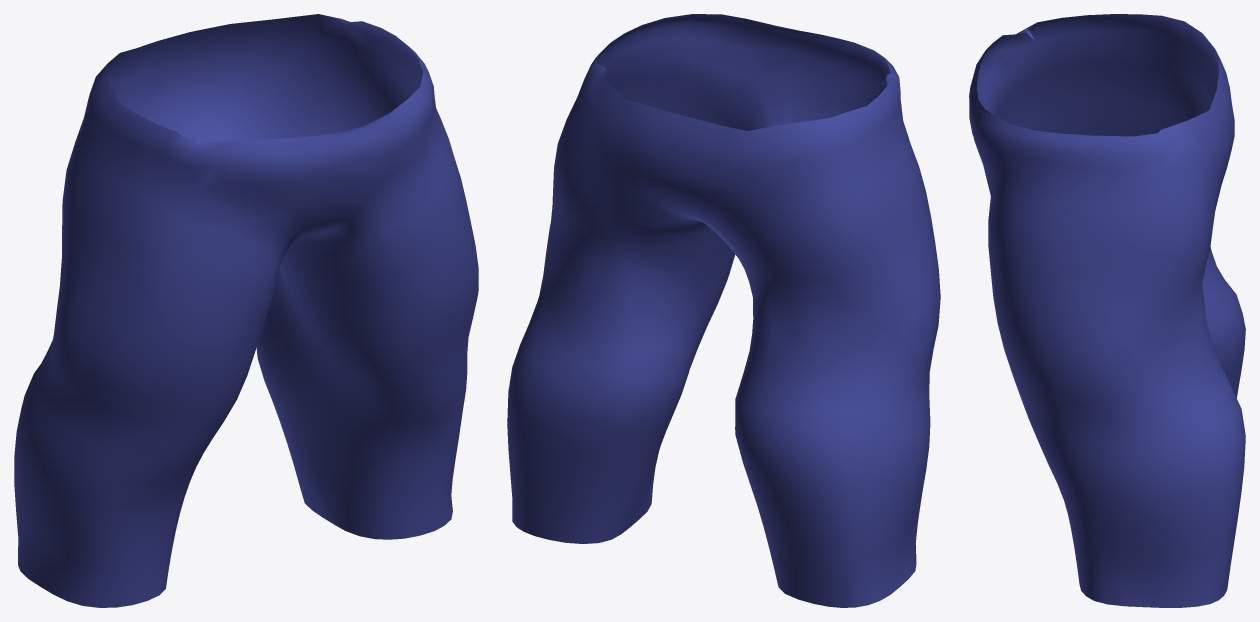
File: pants.glb
3 renders of one model, left to right at view 1: azimuth 30°, elevation 25°; view 2: azimuth 150°, elevation 25°; view 3: azimuth 270°, elevation 25°, orthographic. The views are drawn at different scales.
Visible parts, largest first — view 1: pants; view 2: pants; view 3: pants.
Part boxes in pixels (bbox=[...]): pants: bbox=[14, 14, 478, 607]; pants: bbox=[507, 14, 940, 607]; pants: bbox=[969, 14, 1245, 607].
Size of the model in its own units: 2.18 by 2.48 by 1.38.
